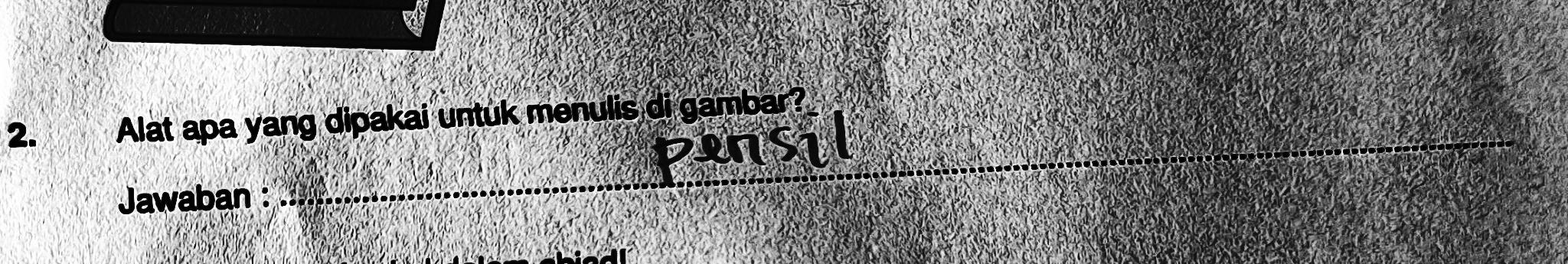jawaban: (653, 103, 863, 181)
